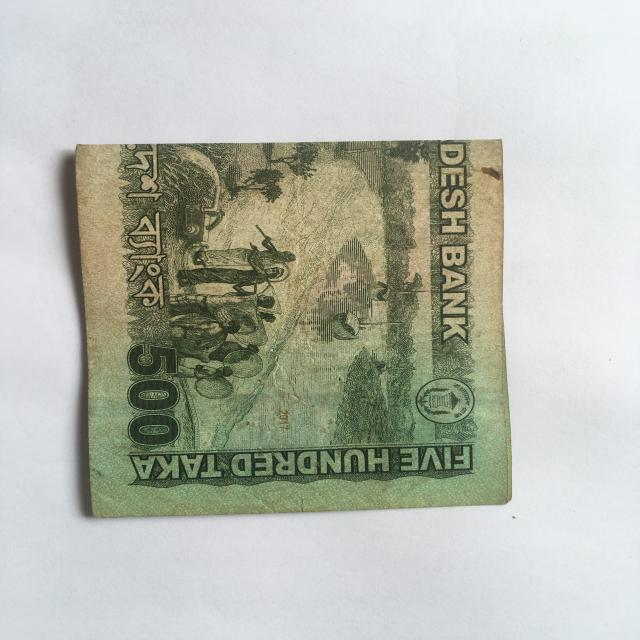Taka: (69, 138, 523, 512)
